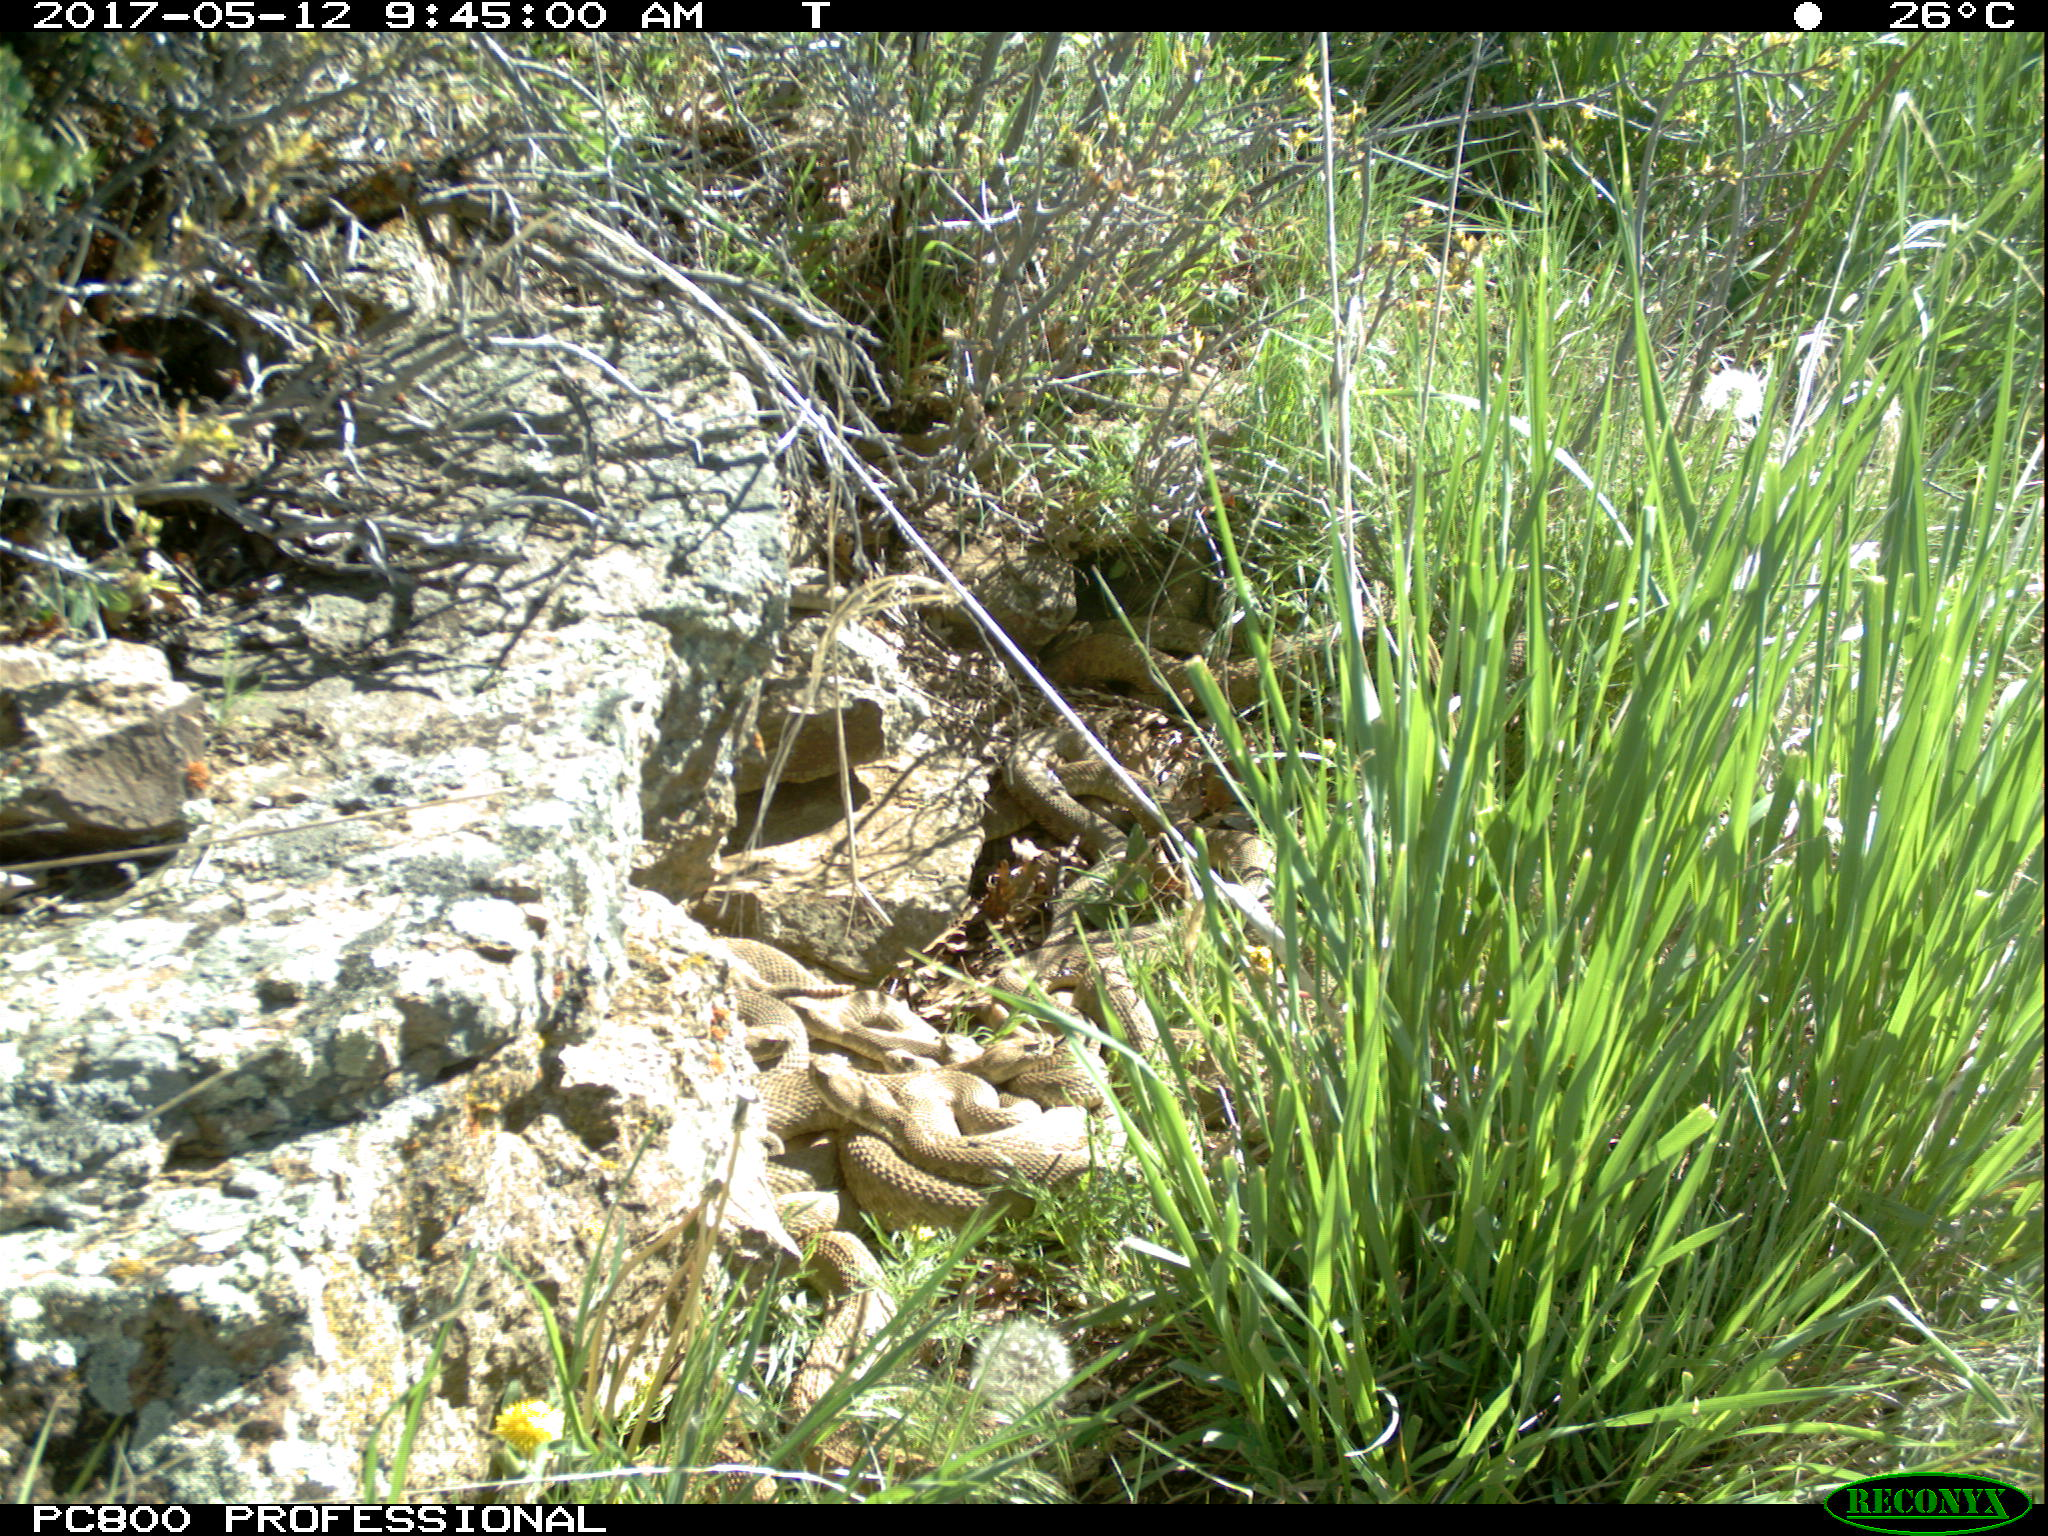snake: (800, 1054, 1118, 1228), (798, 989, 1108, 1117), (1089, 753, 1284, 950), (792, 1226, 930, 1489), (1006, 736, 1142, 981), (1032, 607, 1355, 707), (714, 944, 847, 1139)
